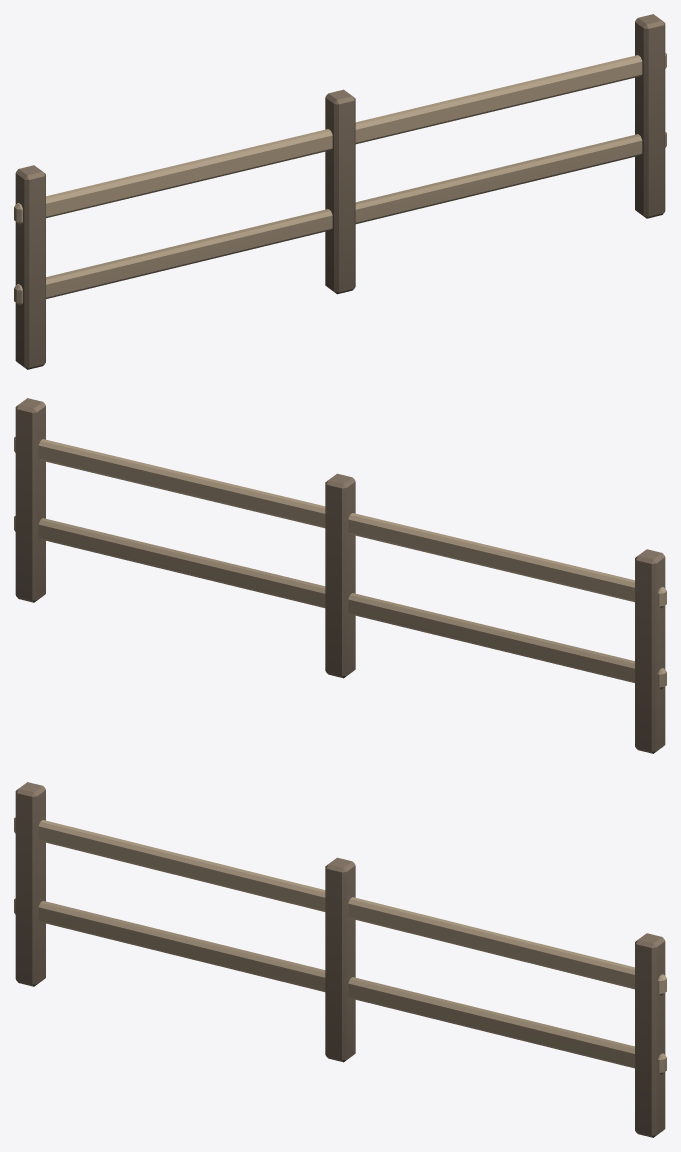
Rendered from iv_fence.glb.
3 views of the same model, one above another, from view 1: azimuth 30°, elevation 25°; view 2: azimuth 150°, elevation 25°; view 3: azimuth 330°, elevation 25° (orthographic).
Visible parts, largest first — view 1: iv_fence; view 2: iv_fence; view 3: iv_fence.
Part boxes in pixels (x1,y1,x2,y2): iv_fence: (14,14,666,369); iv_fence: (14,398,666,753); iv_fence: (14,782,666,1137).
Size of the model in its own units: 4.2 by 1.2 by 0.14.
